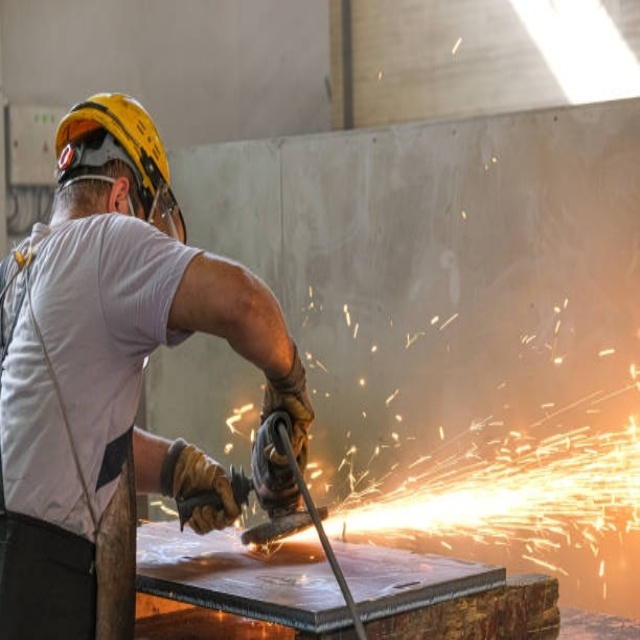Guantes: (255, 343, 314, 495), (160, 437, 244, 535)
